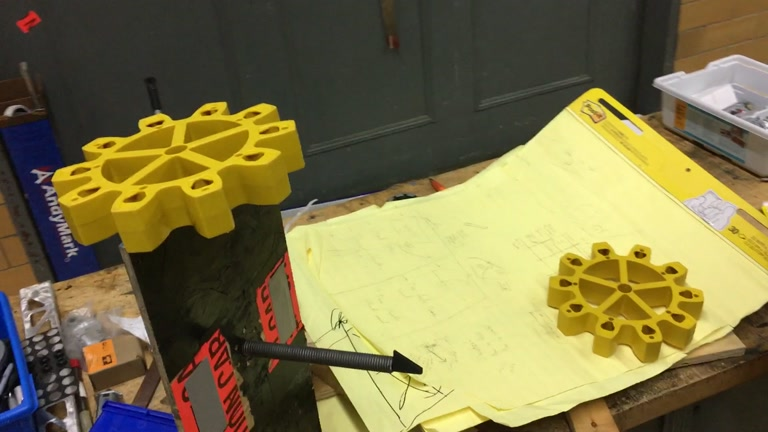gear: (50, 101, 306, 252), (545, 240, 705, 365)
